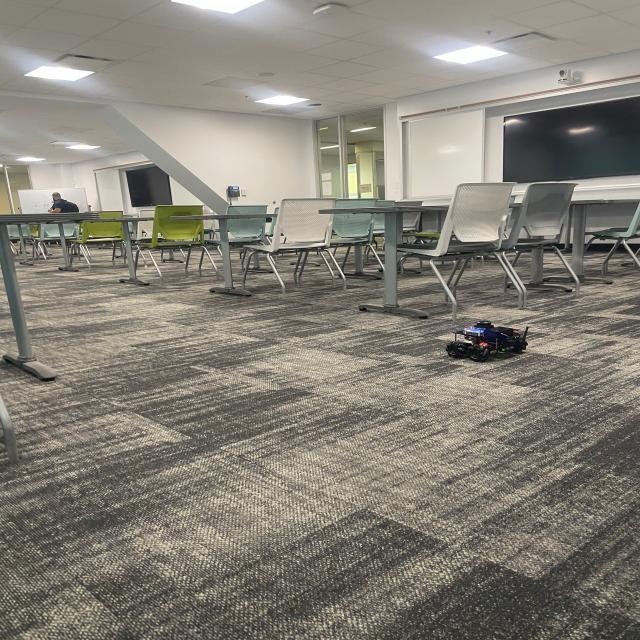ArduinoCar: (444, 318, 532, 361)
